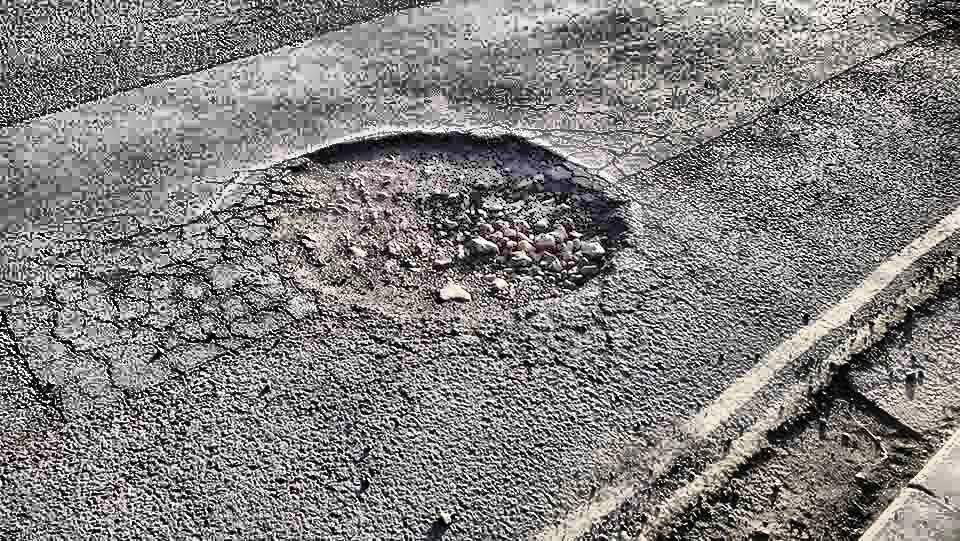pothole: (251, 123, 646, 322)
